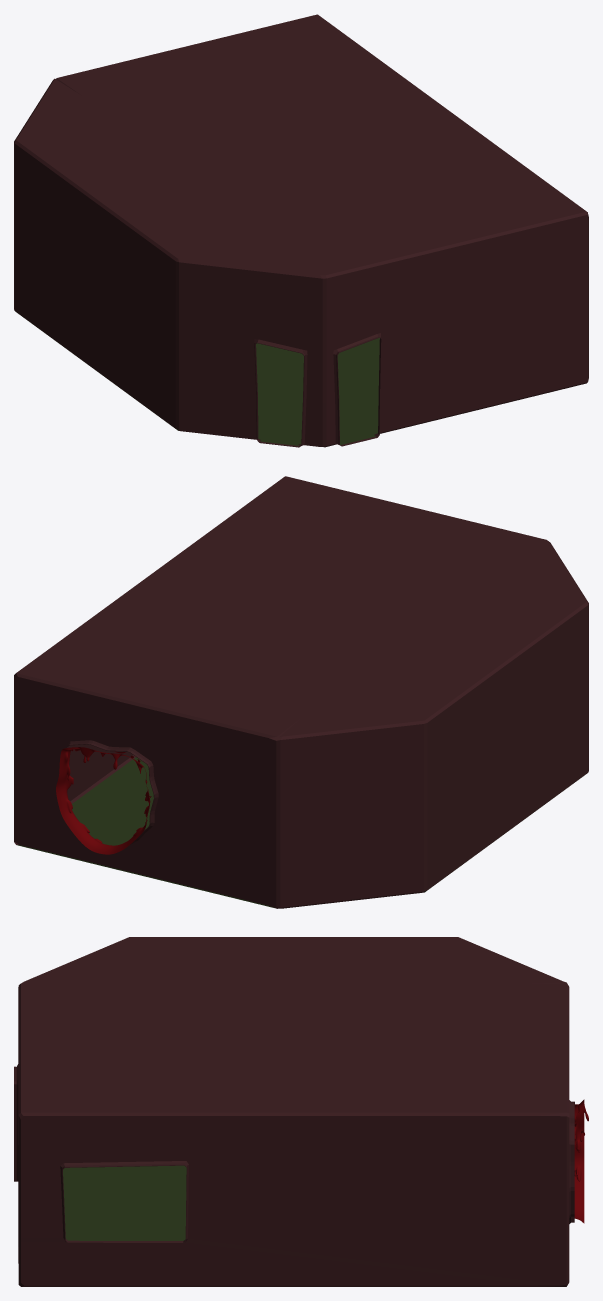
The model's file is Piece_Chambre Test.fbx.
The picture shows the model from 3 angles, top to bottom: view 1: azimuth 30°, elevation 25°; view 2: azimuth 150°, elevation 25°; view 3: azimuth 270°, elevation 25°; orthographic projection.
Visible parts, largest first — view 1: Piece; view 2: Piece, Circle; view 3: Piece, Circle.
Part boxes in pixels (x1,y1,x2,y2): Piece: (14,14,588,447); Piece: (14,476,588,908); Circle: (56,747,151,854); Piece: (14,937,574,1286); Circle: (574,1099,588,1223).
Bounding box in the file's own units: 811 × 366 × 1093.
